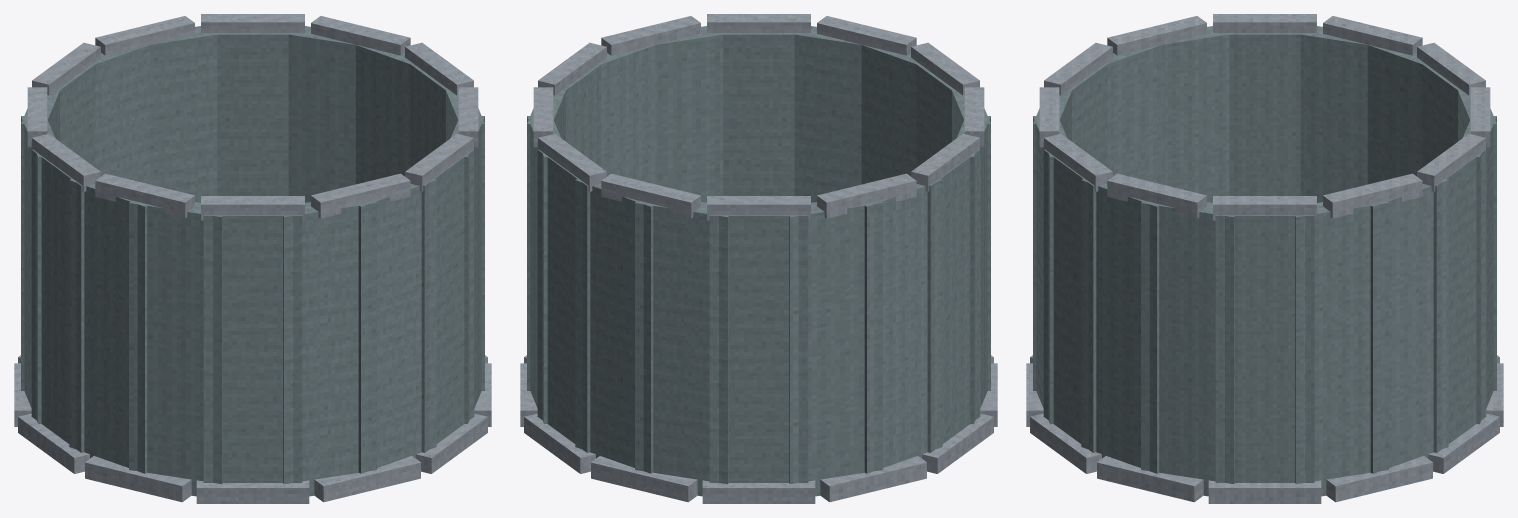
Rendered from level_blockout_cinder_hollow_shaft_liner.glb.
3 renders of one model, left to right at view 1: azimuth 30°, elevation 25°; view 2: azimuth 150°, elevation 25°; view 3: azimuth 270°, elevation 25°, orthographic.
Parts seen in each view (by area): view 1: level_blockout_cinder_hollow_shaft_liner; view 2: level_blockout_cinder_hollow_shaft_liner; view 3: level_blockout_cinder_hollow_shaft_liner.
Boxes of the visible parts, x1,y1,x2,y2 form: level_blockout_cinder_hollow_shaft_liner: (14,14,491,503); level_blockout_cinder_hollow_shaft_liner: (520,14,997,503); level_blockout_cinder_hollow_shaft_liner: (1026,14,1503,503).
Size of the model in its own units: 4.83 by 3.28 by 4.83.
2 materials, 2 textured.
